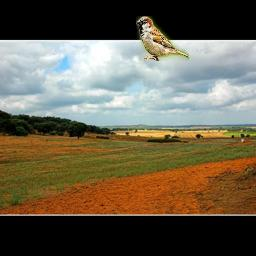Sparrow: (137, 17, 190, 62)
